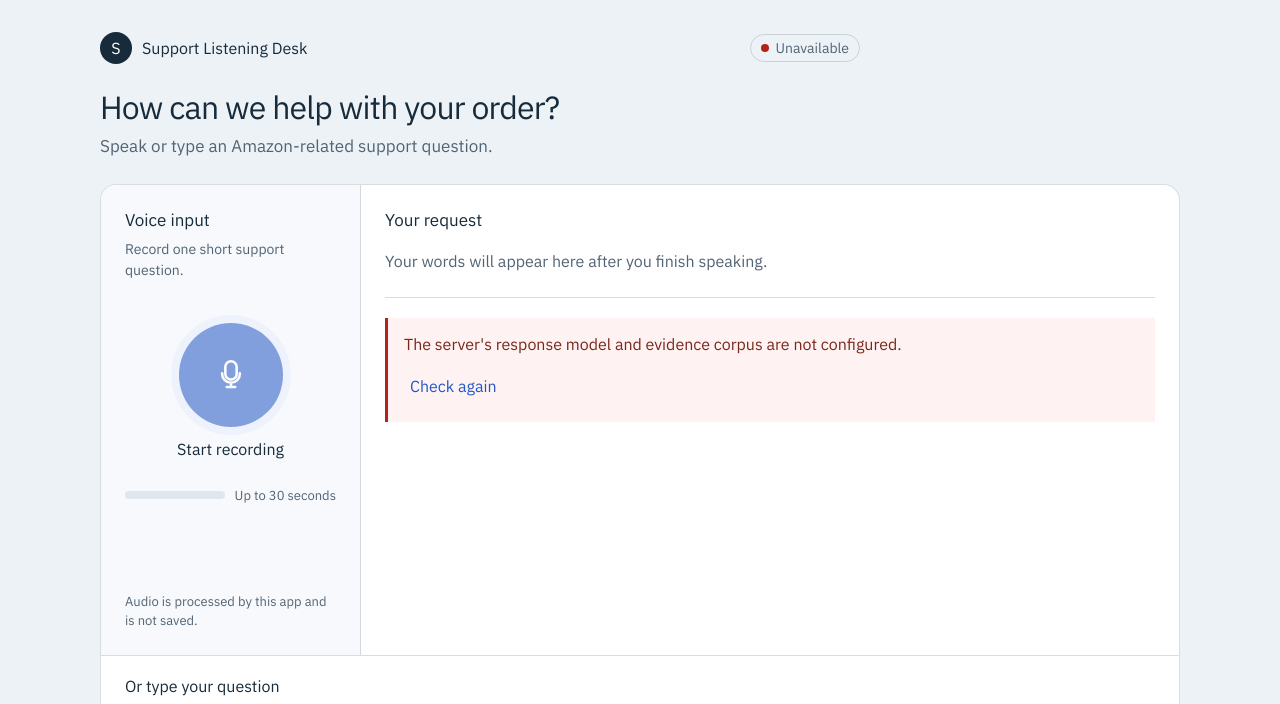
Test: Support Listening Desk › explains an unconfigured backend immediately and can retry after repair
The image size is (1280, 704).
Check: the message shows "not configured", box [404,334,902,354]
Check: the text "Unavailable" is shown, box [750,34,860,62]
Click the button "Check again".
click(453, 386)  # box [404,364,503,408]
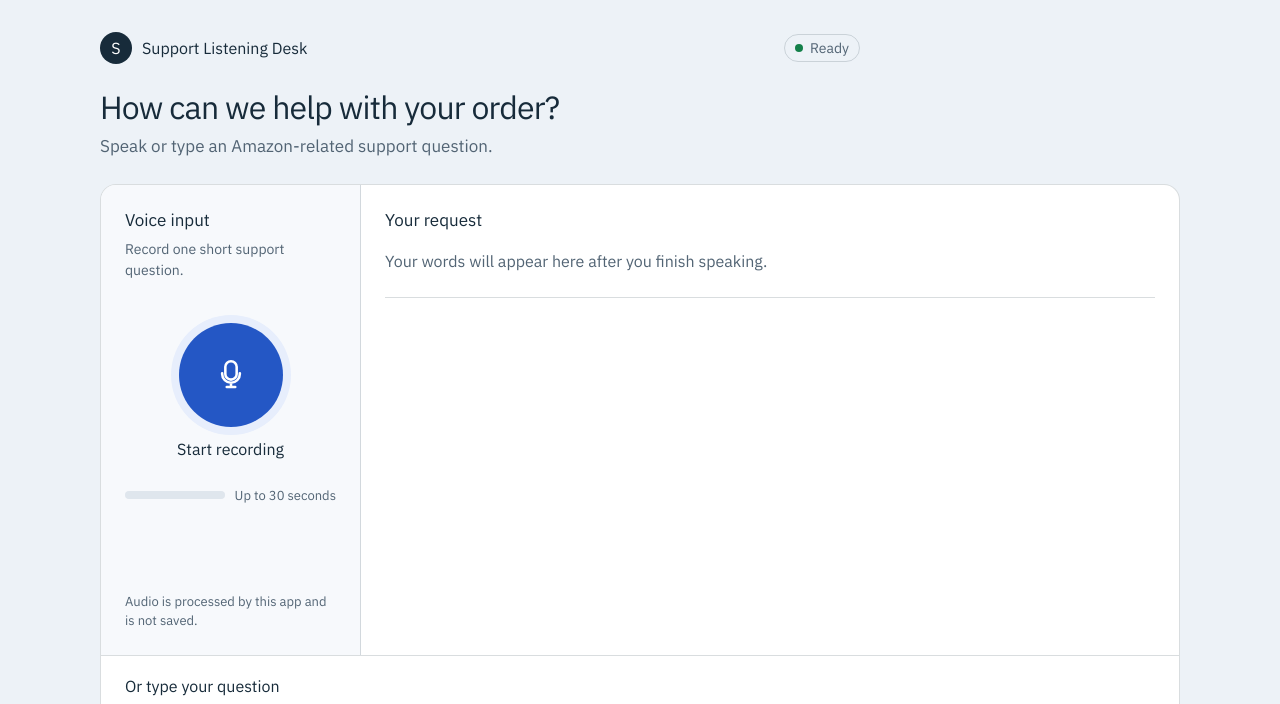
Check: the text "Ready" is shown, box [784,34,860,62]
